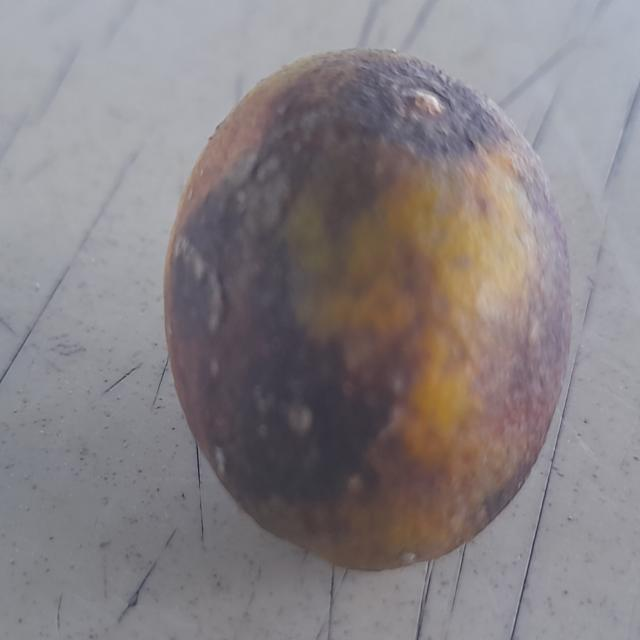black spot: (165, 48, 574, 580)
